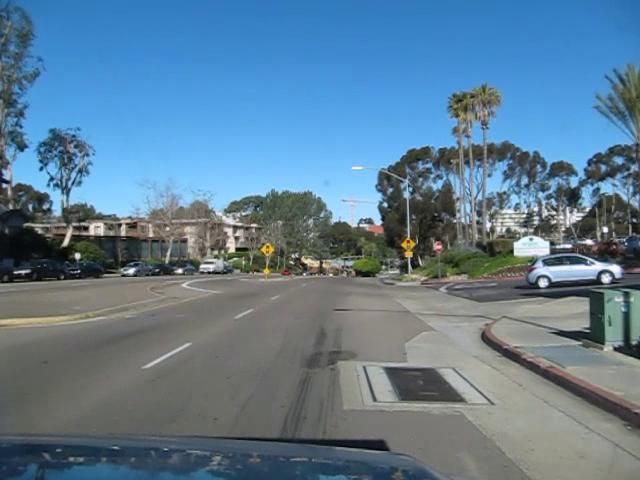signalAhead: (400, 236, 416, 252), (261, 241, 273, 256)
